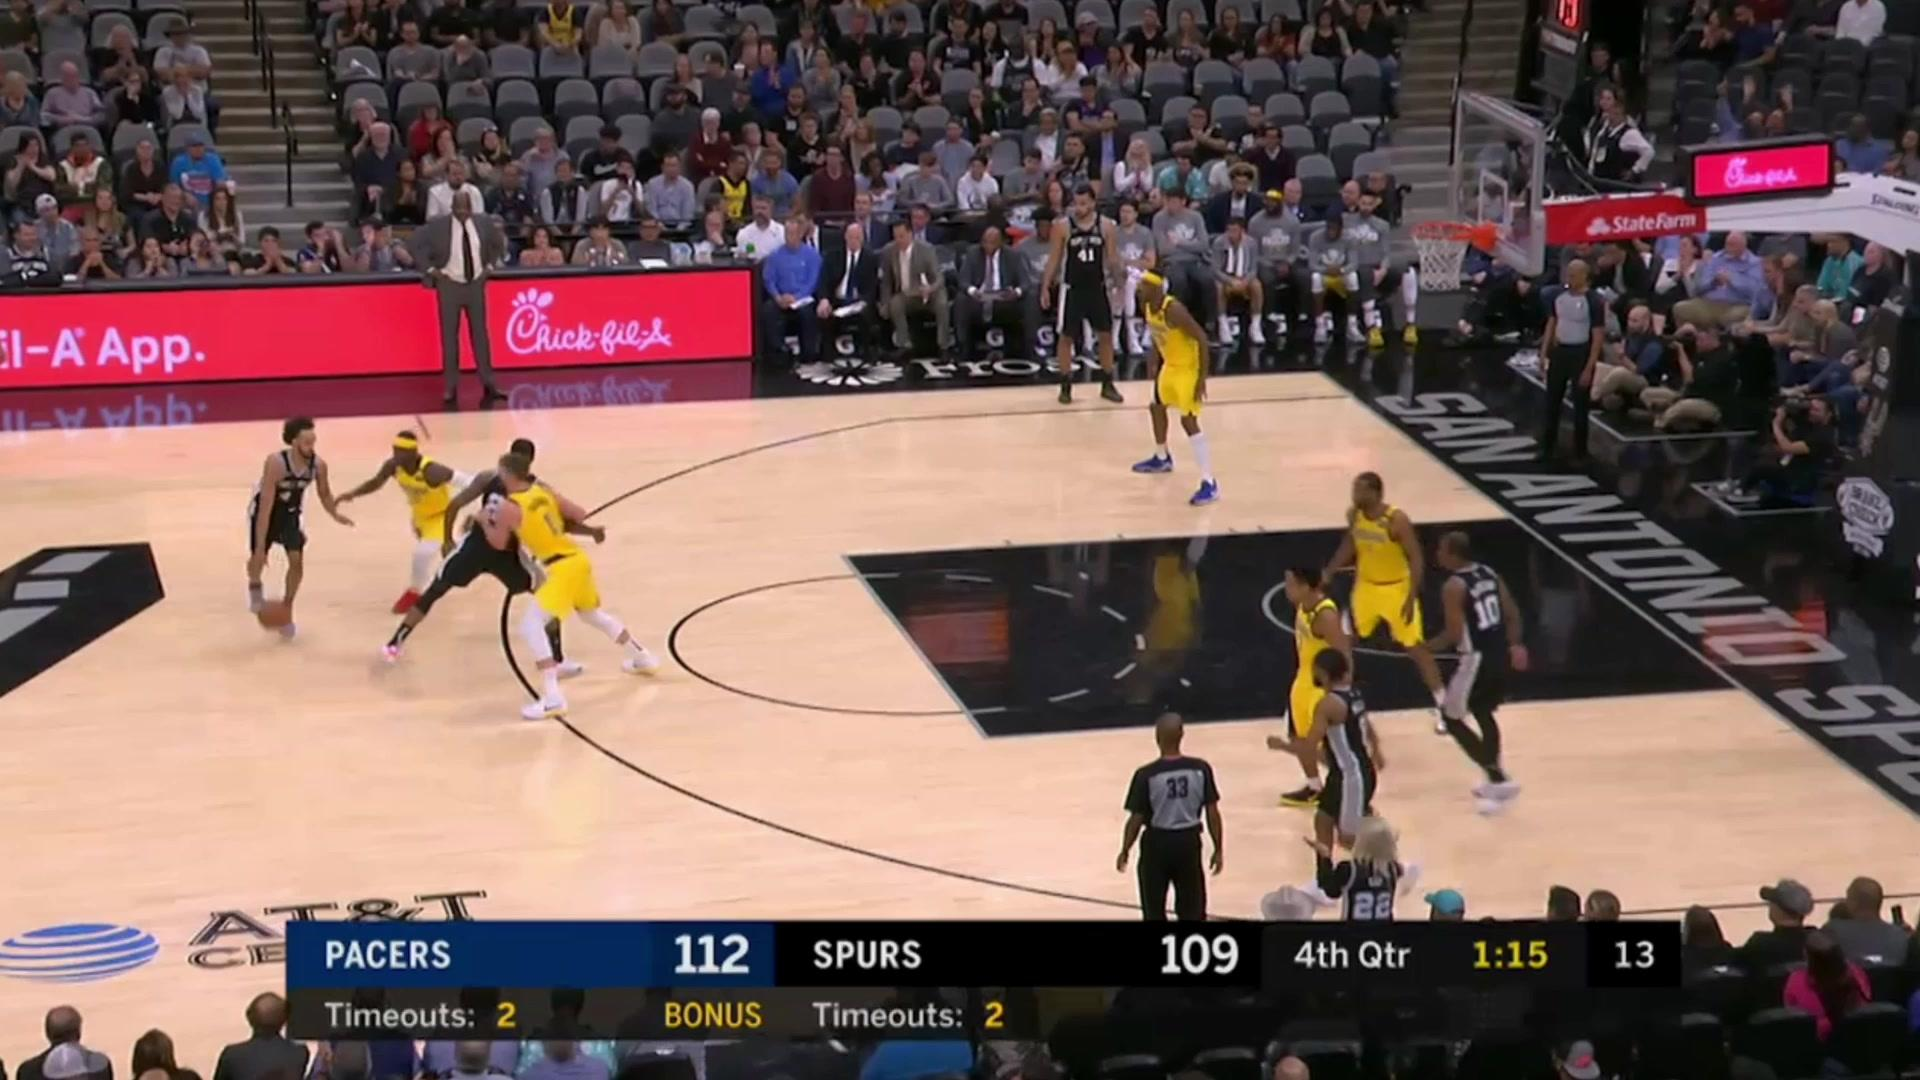no_foul: (459, 421, 612, 711)
